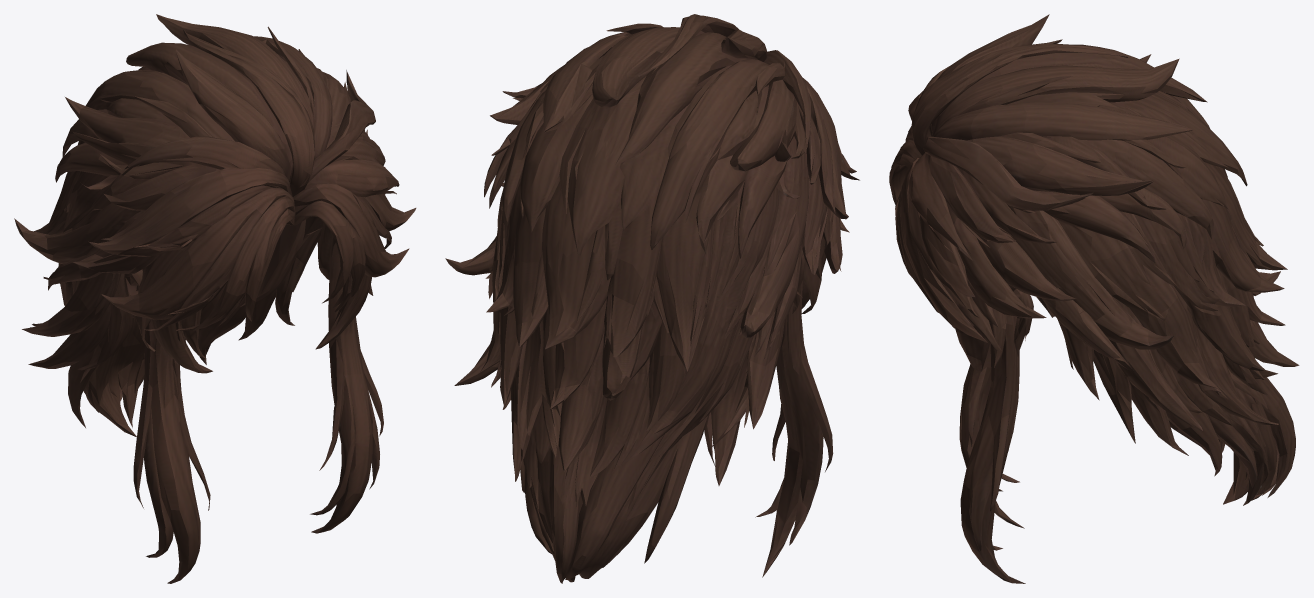
The model's file is hair_02.glb.
The picture shows the model from 3 angles, left to right: view 1: azimuth 30°, elevation 25°; view 2: azimuth 150°, elevation 25°; view 3: azimuth 270°, elevation 25°; orthographic projection. The views are drawn at different scales.
Visible parts, largest first — view 1: HAIR; view 2: HAIR; view 3: HAIR.
Boxes of the visible parts, left/top/right/bottom form: HAIR: left=14, top=14, right=416, bottom=583; HAIR: left=445, top=14, right=859, bottom=583; HAIR: left=889, top=14, right=1299, bottom=583.
Bounding box in the file's own units: 0.2466 × 0.396 × 0.2803.
Materials: 1 (1 with a texture image).
